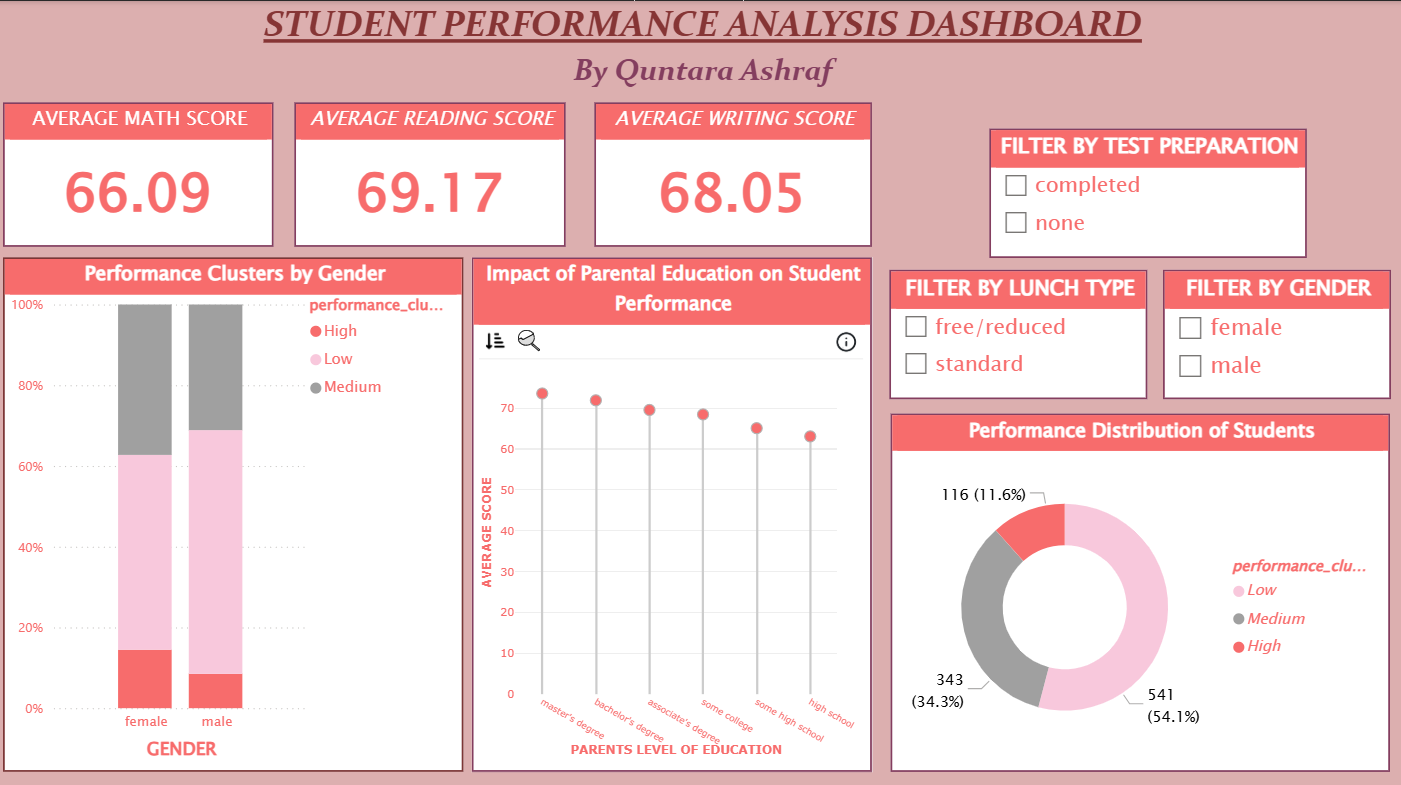

Layout of this report page (visuals, bound fields, positions):
{"tool":"powerbi","page":{"name":"Page 1","canvas":[1280,720],"ordinal":0},"visuals":[{"type":"slicer","title":"FILTER BY GENDER","fields":{"Values":["cleaned_student_data (1).gender"]},"box":[1054.9,242.6,205.3,116.9],"z":0},{"type":"slicer","title":"FILTER BY TEST PREPARATION ","fields":{"Values":["cleaned_student_data (1).test_preparation_course"]},"box":[898.1,114.4,286.1,116.9],"z":1000},{"type":"slicer","title":"FILTER BY LUNCH TYPE","fields":{"Values":["cleaned_student_data (1).lunch"]},"box":[808.6,242.6,232.6,116.9],"z":2000},{"type":"card","title":"AVERAGE MATH SCORE","fields":{"Values":["Avg(cleaned_student_data (1).math_score)"]},"box":[8.7,90.8,243.8,130.6],"z":3000},{"type":"card","title":"AVERAGE READING SCORE","fields":{"Values":["Avg(cleaned_student_data (1).reading_score)"]},"box":[271.2,90.8,245.1,130.6],"z":4000},{"type":"card","title":"AVERAGE WRITING SCORE","fields":{"Values":["Avg(cleaned_student_data (1).writing_score)"]},"box":[542.4,90.8,250,130.6],"z":5000},{"type":"donutChart","title":"Performance Distribution of Students","fields":{"Category":["cleaned_student_data (1).performance_cluster"],"Y":["CountNonNull(cleaned_student_data (1).gender)"]},"box":[809.8,371.9,450.3,323.4],"z":6000},{"type":"hundredPercentStackedColumnChart","title":"Performance Clusters by Gender","fields":{"Category":["cleaned_student_data (1).gender"],"Series":["cleaned_student_data (1).performance_cluster"],"Y":["CountNonNull(cleaned_student_data (1).gender)"]},"box":[8.7,231.4,415.5,464],"z":7000},{"type":"textbox","title":"STUDENT PERFORMANCE ANALYSIS DASHBOARD","box":[210.8,0,858.3,82.1],"z":9000},{"type":"lollipopcolumn216FD8C19B9DC0D953B3FAE4C3997742","title":"Impact of Parental Education on Student Performance","fields":{"col_0":["cleaned_student_data (1).parental_level_of_education"],"col_1":["Avg(cleaned_student_data (1).average_score)"]},"box":[431.7,231.4,360.7,464],"z":10000}]}

Visuals, with their boxes in screenshot pixels (x1, y1, x2, y2), scaled from the page's 1280x720 canvas onto the 1401x785 screenshot:
"FILTER BY GENDER" slicer: bbox(1155, 265, 1379, 392)
"FILTER BY TEST PREPARATION " slicer: bbox(983, 125, 1296, 252)
"FILTER BY LUNCH TYPE" slicer: bbox(885, 265, 1140, 392)
"AVERAGE MATH SCORE" card: bbox(10, 99, 276, 241)
"AVERAGE READING SCORE" card: bbox(297, 99, 565, 241)
"AVERAGE WRITING SCORE" card: bbox(594, 99, 867, 241)
"Performance Distribution of Students" donutChart: bbox(886, 405, 1379, 758)
"Performance Clusters by Gender" hundredPercentStackedColumnChart: bbox(10, 252, 464, 758)
"STUDENT PERFORMANCE ANALYSIS DASHBOARD" textbox: bbox(231, 0, 1170, 90)
"Impact of Parental Education on Student Performance" lollipopcolumn216FD8C19B9DC0D953B3FAE4C3997742: bbox(473, 252, 867, 758)
